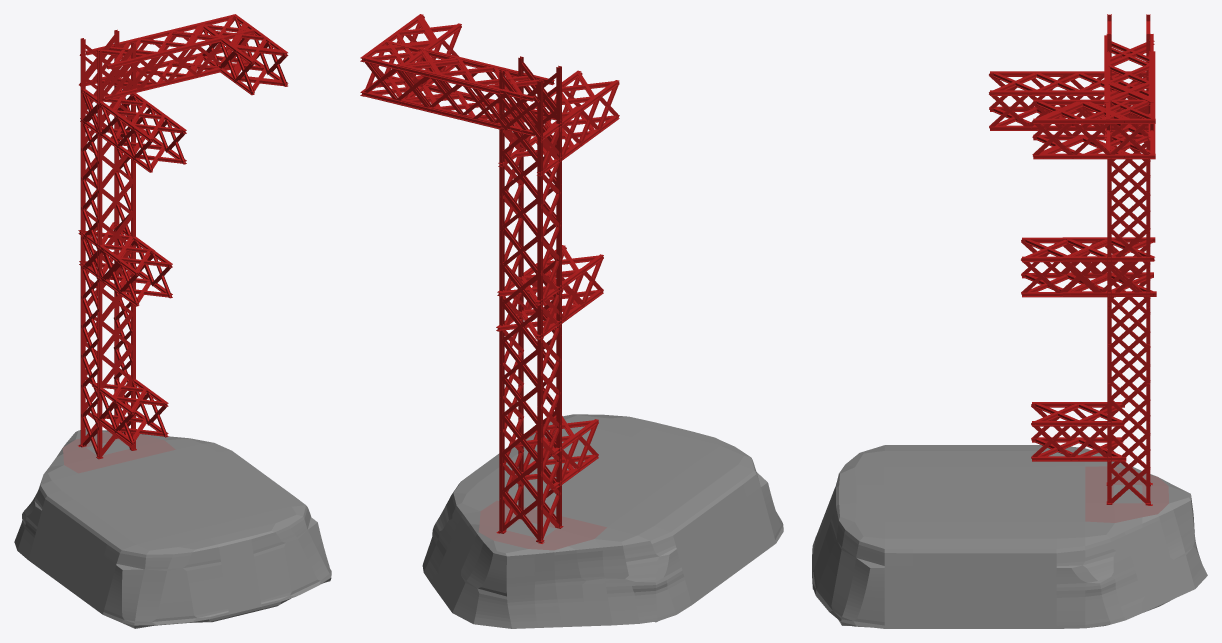
File: LaunchPad.fbx
3 renders of one model, left to right at view 1: azimuth 30°, elevation 25°; view 2: azimuth 150°, elevation 25°; view 3: azimuth 270°, elevation 25°, orthographic. The views are drawn at different scales.
Visible parts, largest first — view 1: Cube; view 2: Cube; view 3: Cube.
Part boxes in pixels (<box>): Cube: <box>14,14,331,628</box>; Cube: <box>360,14,783,628</box>; Cube: <box>812,14,1207,628</box>.
Bounding box in the file's own units: 612 × 1108 × 727.
1 material, 1 textured.
